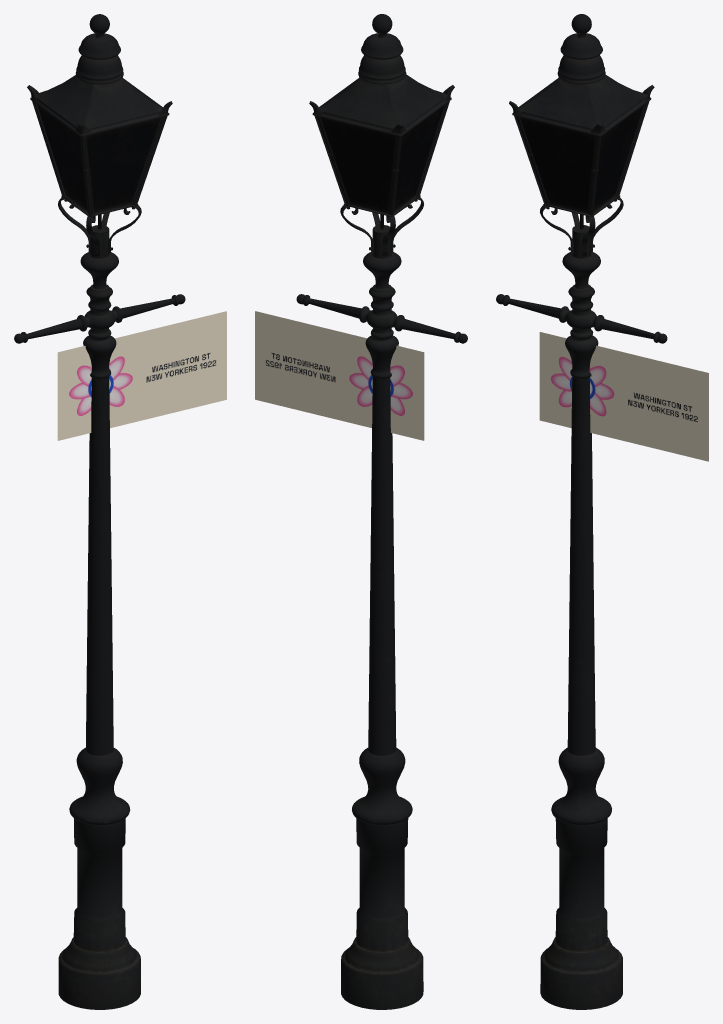
File: nyb_dumbo_gaslamp.glb
3 views of the same model, side by side, from view 1: azimuth 30°, elevation 25°; view 2: azimuth 150°, elevation 25°; view 3: azimuth 330°, elevation 25° (orthographic).
Visible parts, largest first — view 1: street_lamp_01, add_lbl_642e5f6257.png; view 2: street_lamp_01, add_lbl_642e5f6257.png; view 3: street_lamp_01, add_lbl_642e5f6257.png.
Boxes of the visible parts, box(x1,y1,x2,y2) form: street_lamp_01: box(14, 14, 185, 1009); add_lbl_642e5f6257.png: box(57, 311, 226, 440); street_lamp_01: box(296, 14, 467, 1009); add_lbl_642e5f6257.png: box(255, 311, 424, 440); street_lamp_01: box(496, 14, 667, 1009); add_lbl_642e5f6257.png: box(539, 332, 708, 461).
Size of the model in its own units: 0.8783 by 3.87 by 0.3865.
4 materials, 4 textured.
